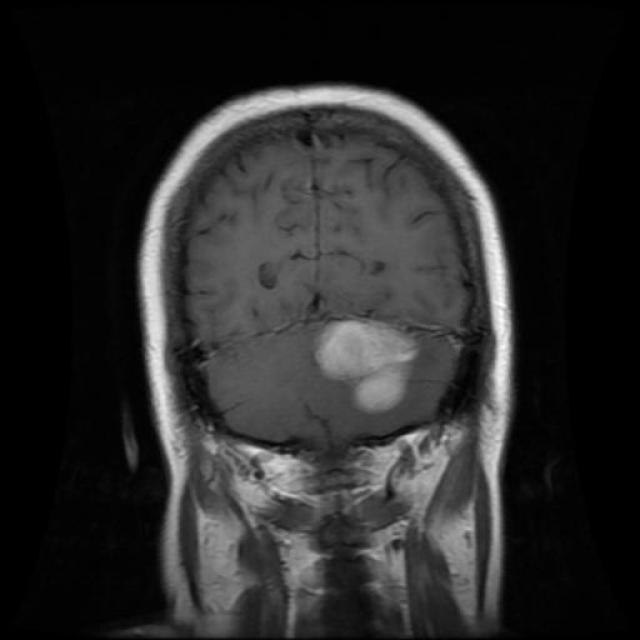meningioma: (316, 319, 420, 415)
